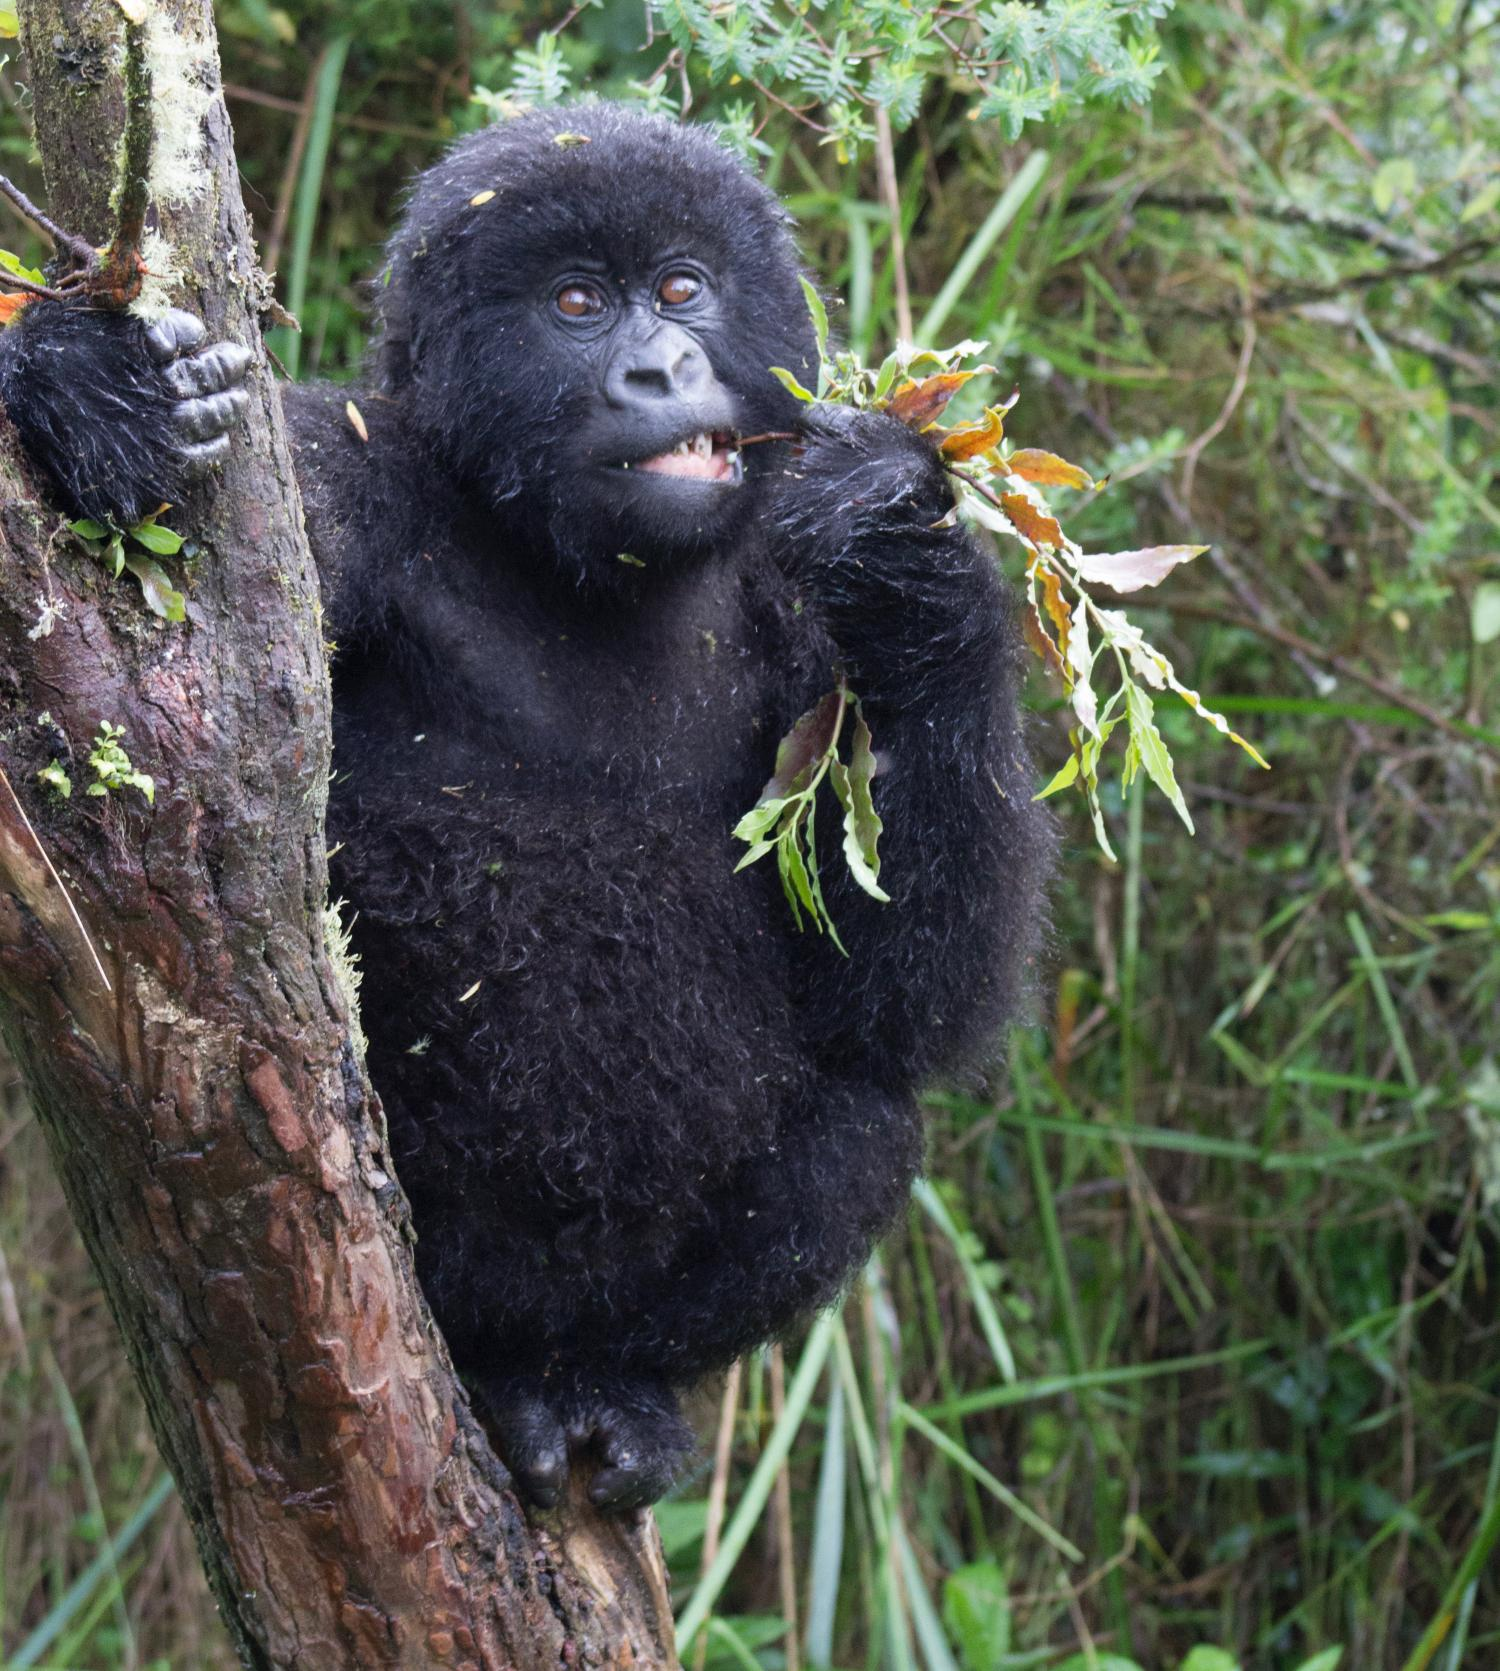Goriila: (274, 91, 1095, 1334)
